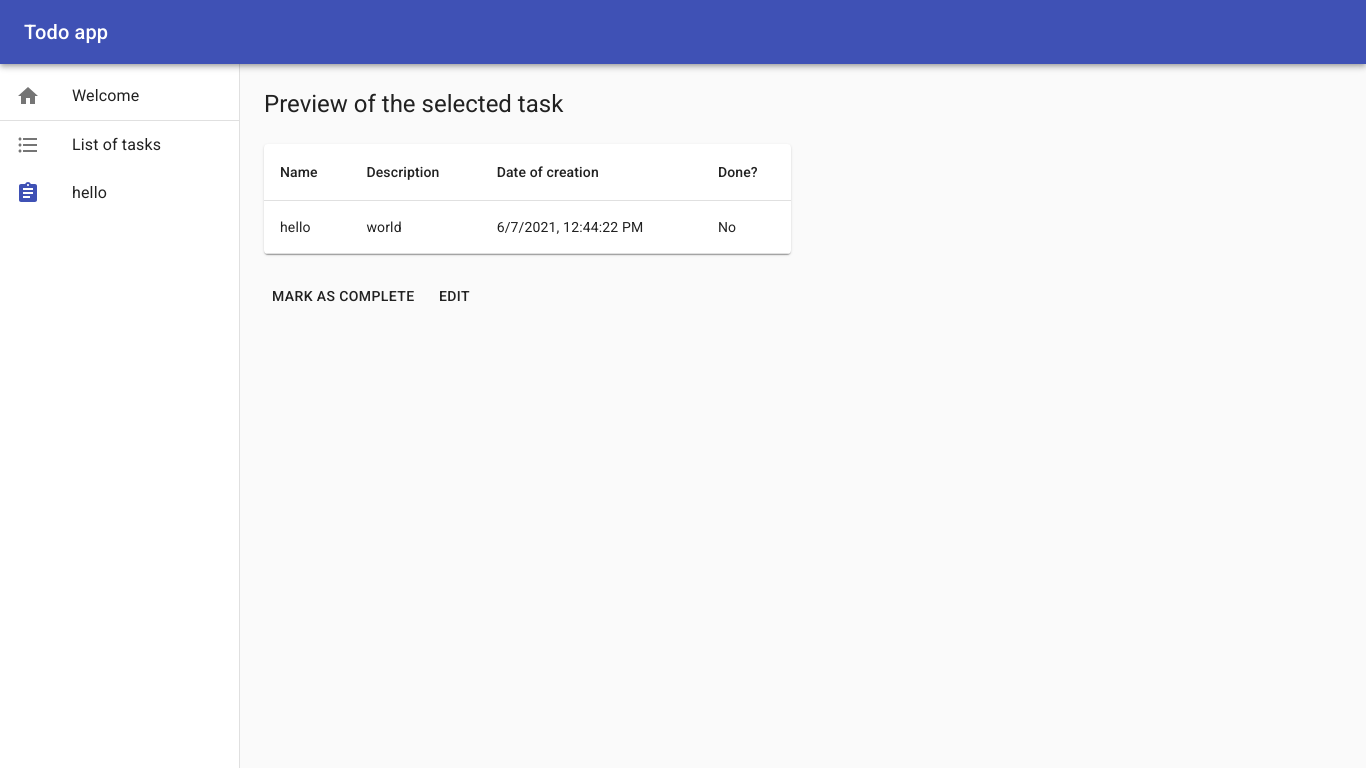
Task list page testing › Marking the task as complete
Click the button with test id "toggleCompletion": (344, 297) [264, 278, 423, 315]
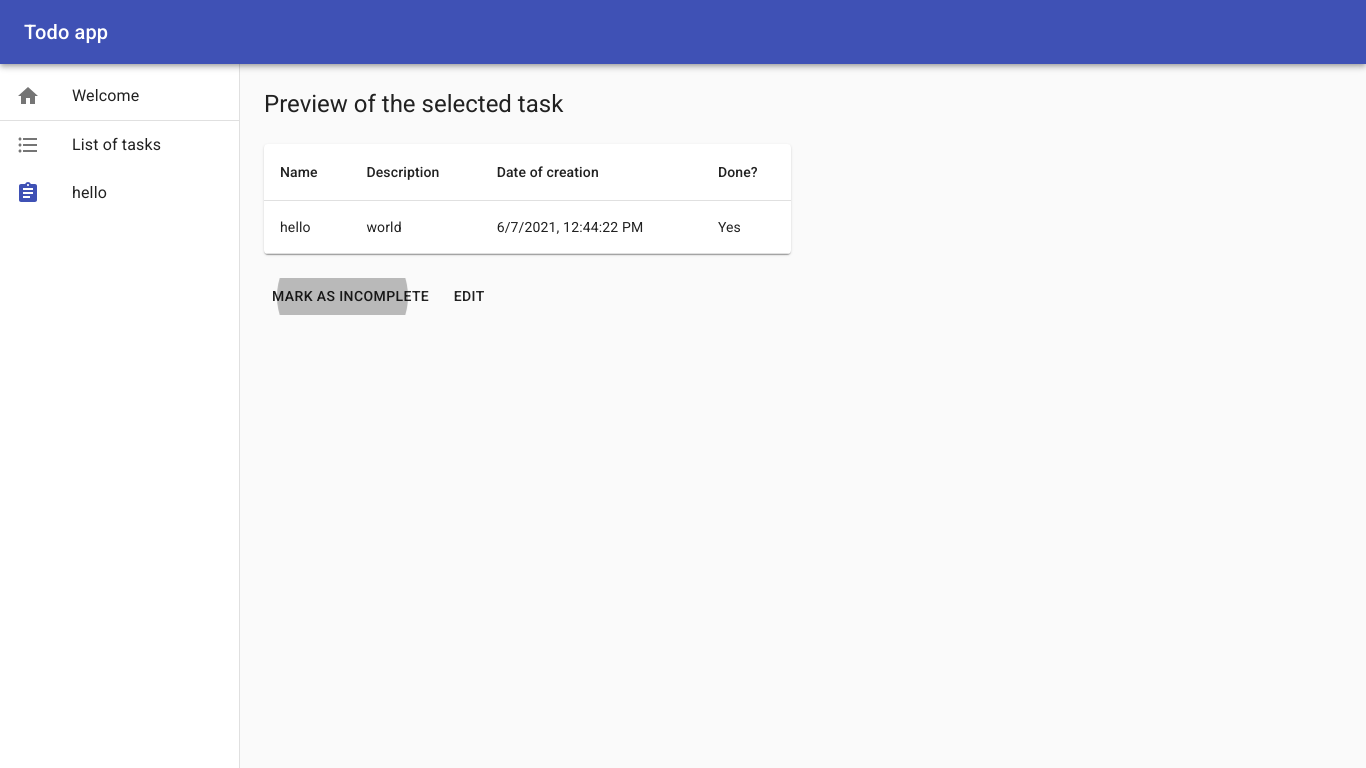
Check: the cell with test id "main" reads "Yes", box [718, 219, 741, 235]
